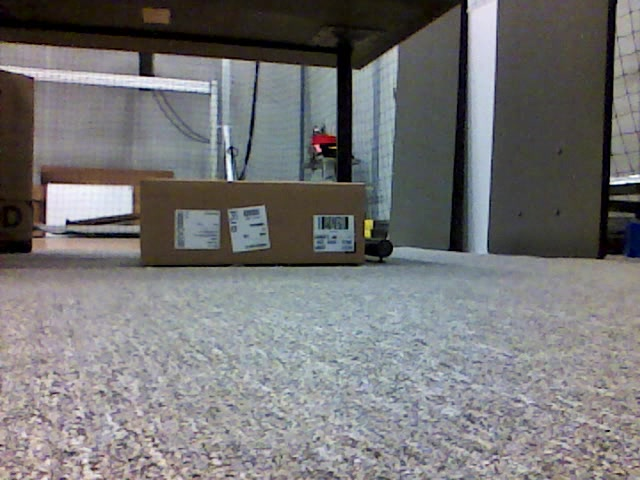box: (142, 179, 365, 264), (1, 70, 34, 254)
